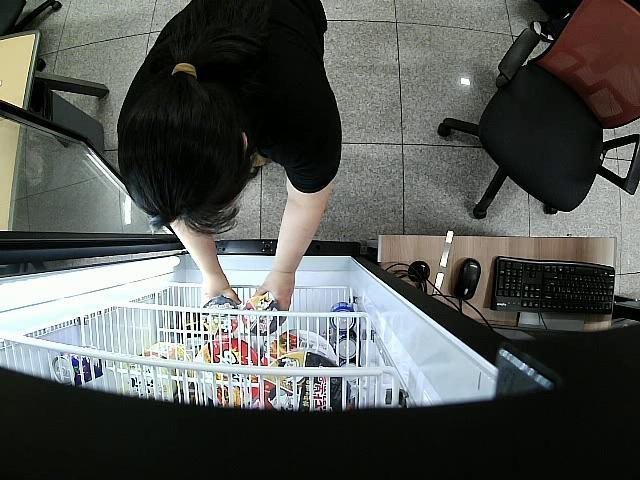08_buldak_S: (242, 298, 284, 334), (204, 296, 240, 333)
